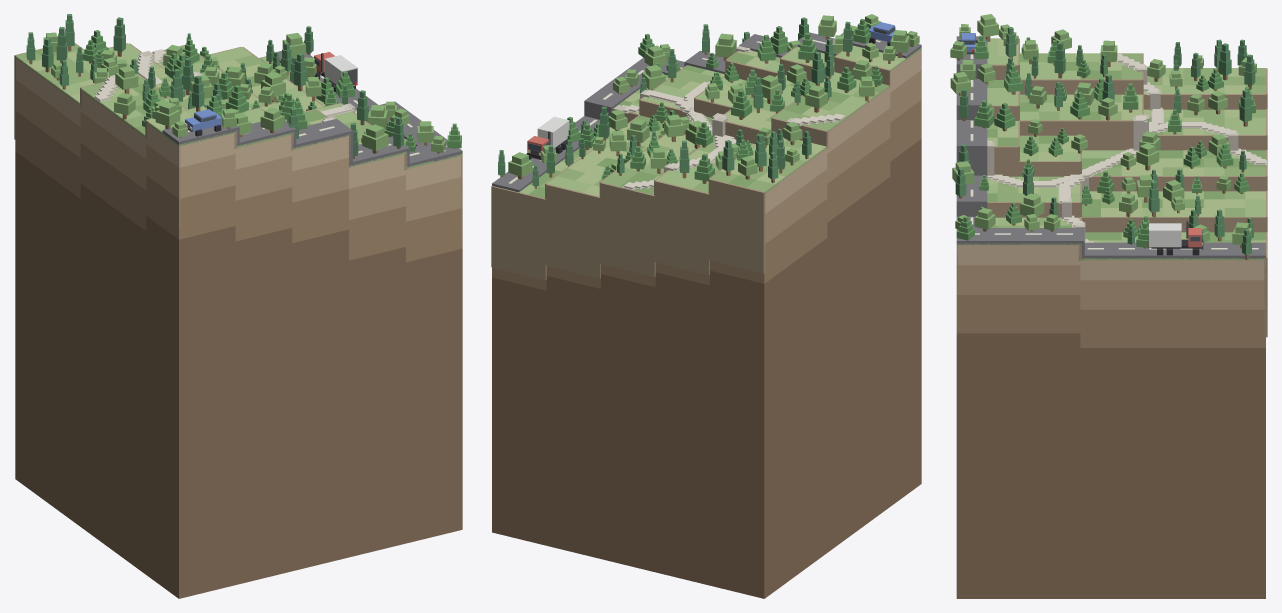
The model's file is block_1_greenroof_0.glb.
The picture shows the model from 3 angles, left to right: view 1: azimuth 30°, elevation 25°; view 2: azimuth 150°, elevation 25°; view 3: azimuth 270°, elevation 25°; orthographic projection. The views are drawn at different scales.
Parts seen in each view (by area): view 1: Patch_UpperLeft_b02_GR, Ghats_UpperLeft_b02_GR, Roads_UpperLeft_b02_GR, ULCar_009_GR, ULCar_000_GR; view 2: Patch_UpperLeft_b02_GR, Ghats_UpperLeft_b02_GR, Roads_UpperLeft_b02_GR, ULCar_009_GR; view 3: Patch_UpperLeft_b02_GR, Ghats_UpperLeft_b02_GR, Roads_UpperLeft_b02_GR, ULCar_009_GR, RoadMarks_UpperLeft_b02_GR, ULG_T064_GR, ULG_T091_GR, ULG_T001_GR.
Boxes of the visible parts, box(x1,y1,x2,y2) form: Patch_UpperLeft_b02_GR: box(15, 58, 462, 598); Ghats_UpperLeft_b02_GR: box(14, 43, 462, 237); Roads_UpperLeft_b02_GR: box(162, 51, 462, 167); ULCar_009_GR: box(314, 52, 357, 93); ULCar_000_GR: box(185, 109, 221, 136); Patch_UpperLeft_b02_GR: box(492, 50, 921, 598); Ghats_UpperLeft_b02_GR: box(491, 45, 921, 280); Roads_UpperLeft_b02_GR: box(492, 32, 921, 192); ULCar_009_GR: box(526, 116, 569, 159); Patch_UpperLeft_b02_GR: box(956, 244, 1265, 598); Ghats_UpperLeft_b02_GR: box(957, 38, 1267, 337); Roads_UpperLeft_b02_GR: box(956, 36, 1265, 259); ULCar_009_GR: box(1148, 220, 1203, 255); RoadMarks_UpperLeft_b02_GR: box(970, 54, 1258, 249); ULG_T064_GR: box(1136, 143, 1159, 170); ULG_T091_GR: box(1020, 193, 1044, 216); ULG_T001_GR: box(977, 14, 998, 41).
Bounding box in the file's own units: 9.95 × 15.66 × 9.74.
